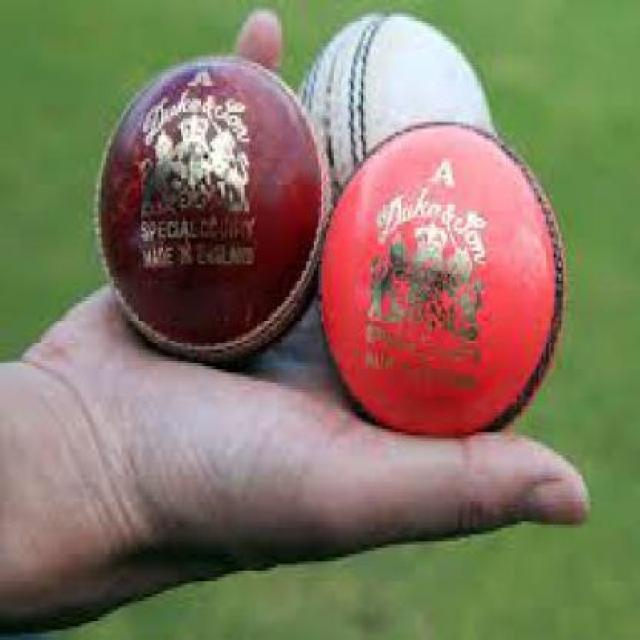ball: (97, 24, 358, 379)
